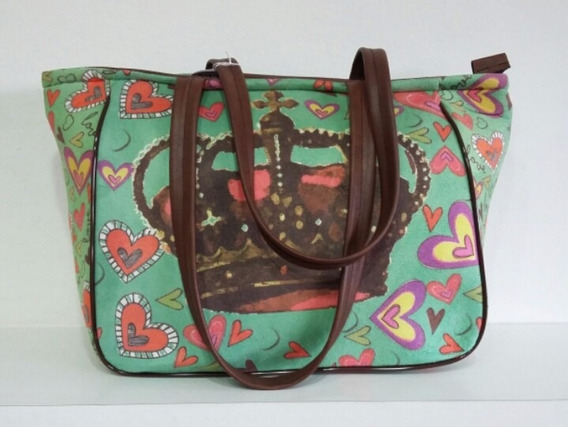cartera: (36, 46, 517, 388)
